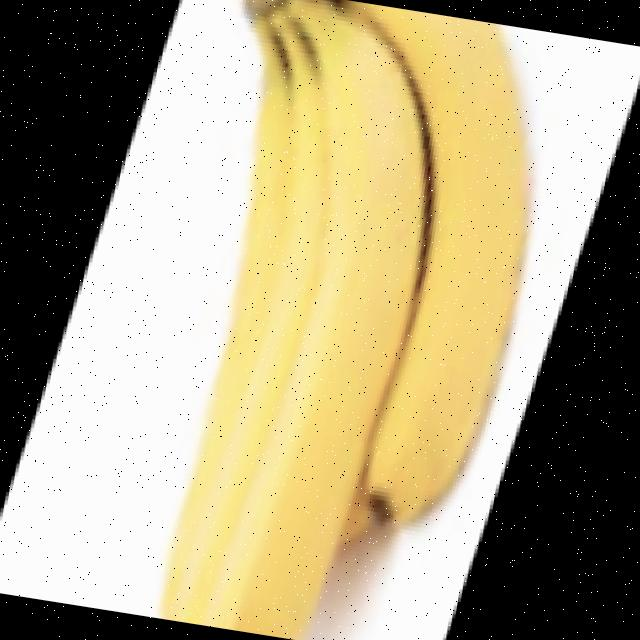banana: (84, 0, 585, 640)
